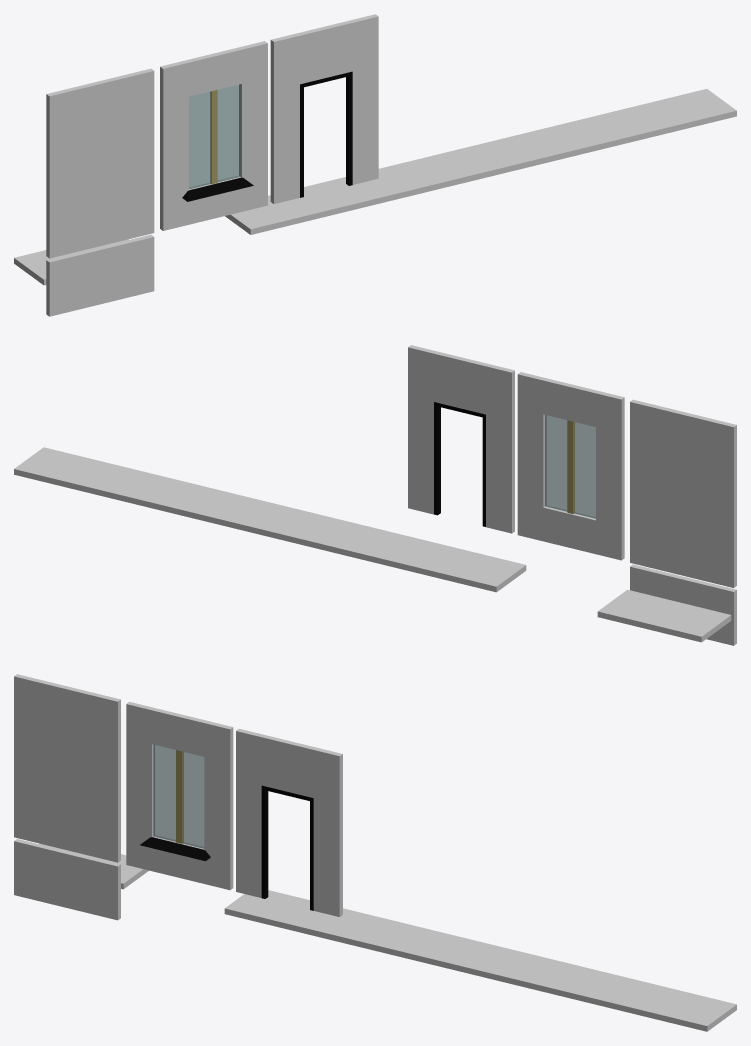
The model's file is ModulBuild3D.fbx.
The picture shows the model from 3 angles, top to bottom: view 1: azimuth 30°, elevation 25°; view 2: azimuth 150°, elevation 25°; view 3: azimuth 330°, elevation 25°; orthographic projection.
Visible parts, largest first — view 1: BuildWall, BuildFloor_Ceiling1, BuildWindowFrame, BuildDoorFrame1, BuildDown, BuildWindow, BuildFrame, BuildFloor_Ceiling, BuildA; view 2: BuildWall, BuildFloor_Ceiling1, BuildWindowFrame, BuildDoorFrame1, BuildWindow, BuildFloor_Ceiling, BuildDown, BuildFrame; view 3: BuildWall, BuildFloor_Ceiling1, BuildWindowFrame, BuildDoorFrame1, BuildDown, BuildWindow, BuildFrame, BuildA, BuildFloor_Ceiling.
Boxes of the visible parts, box(x1,y1,x2,y2) form: BuildWall: box(46, 68, 154, 258); BuildFloor_Ceiling1: box(225, 89, 736, 234); BuildWindowFrame: box(160, 41, 267, 230); BuildDoorFrame1: box(270, 14, 378, 203); BuildDown: box(46, 234, 154, 316); BuildWindow: box(189, 84, 240, 188); BuildFrame: box(300, 71, 352, 197); BuildFloor_Ceiling: box(14, 239, 128, 285); BuildA: box(182, 177, 253, 201); BuildWall: box(630, 399, 736, 587); BuildFloor_Ceiling1: box(14, 447, 526, 592); BuildWindowFrame: box(517, 372, 624, 560); BuildDoorFrame1: box(408, 345, 514, 533); BuildWindow: box(545, 415, 595, 518); BuildFloor_Ceiling: box(597, 589, 731, 642); BuildDown: box(630, 564, 736, 645); BuildFrame: box(434, 402, 485, 526); BuildWall: box(14, 674, 120, 862); BuildFloor_Ceiling1: box(224, 890, 736, 1031); BuildWindowFrame: box(126, 702, 233, 889); BuildDoorFrame1: box(236, 728, 342, 916); BuildDown: box(14, 839, 120, 920); BuildWindow: box(153, 745, 204, 848); BuildFrame: box(261, 785, 313, 910); BuildA: box(140, 837, 210, 861); BuildFloor_Ceiling: box(39, 843, 148, 889).
Bounding box in the file's own units: 0.3786 × 0.1151 × 0.0391.
